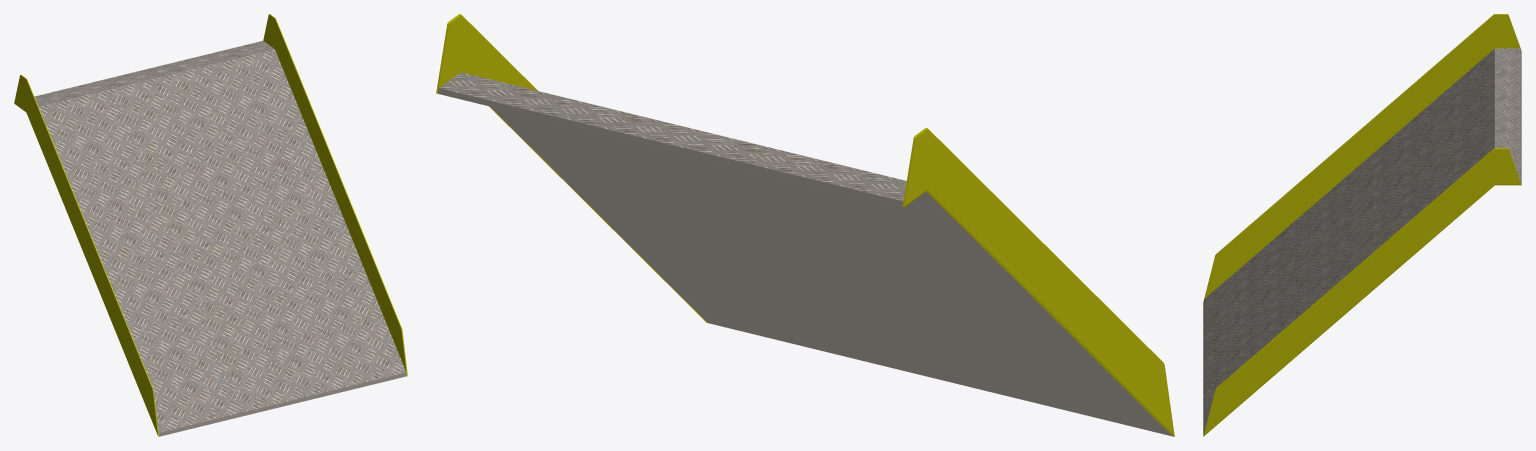
The model's file is sh-contrib-pwd-ramp.glb.
The picture shows the model from 3 angles, left to right: view 1: azimuth 30°, elevation 25°; view 2: azimuth 150°, elevation 25°; view 3: azimuth 270°, elevation 25°; orthographic projection. The views are drawn at different scales.
Visible parts, largest first — view 1: Cube; view 2: Cube; view 3: Cube.
Part boxes in pixels (x1=…): Cube: x1=14, y1=14, x2=407, y2=436; Cube: x1=436, y1=14, x2=1174, y2=436; Cube: x1=1203, y1=14, x2=1521, y2=436.
Bounding box in the file's own units: 1 × 1 × 1.
2 materials, 1 textured.
